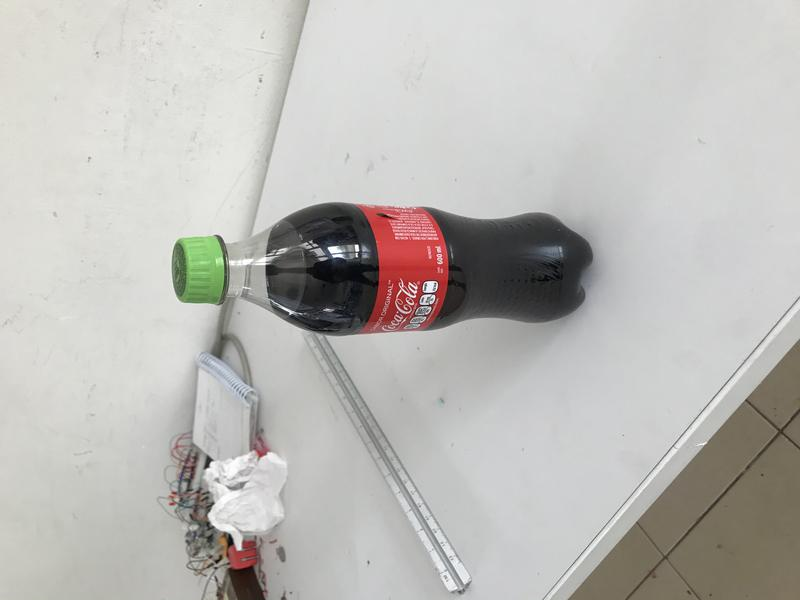coca_cola: (173, 202, 594, 338)
